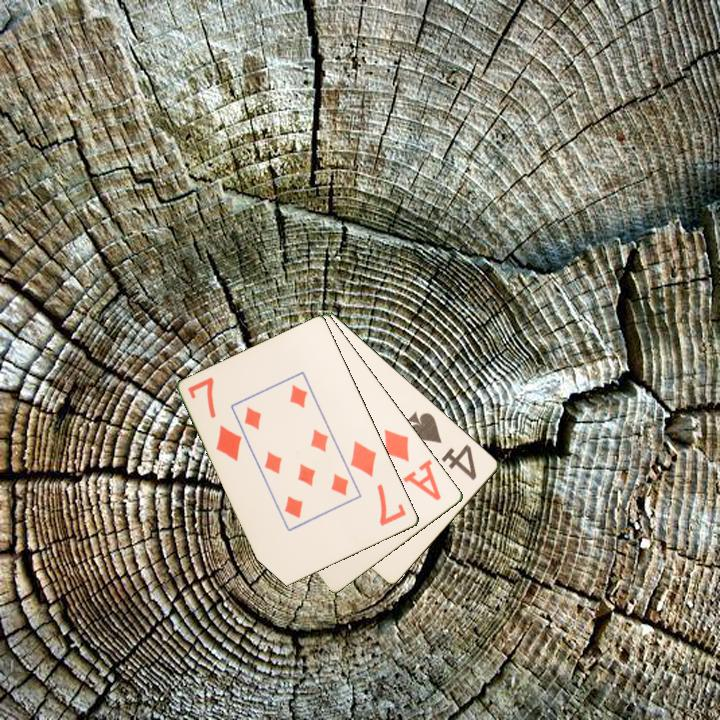4s: (404, 408, 480, 483)
7d: (347, 437, 410, 529), (184, 373, 245, 464)
Ad: (381, 426, 445, 504)
